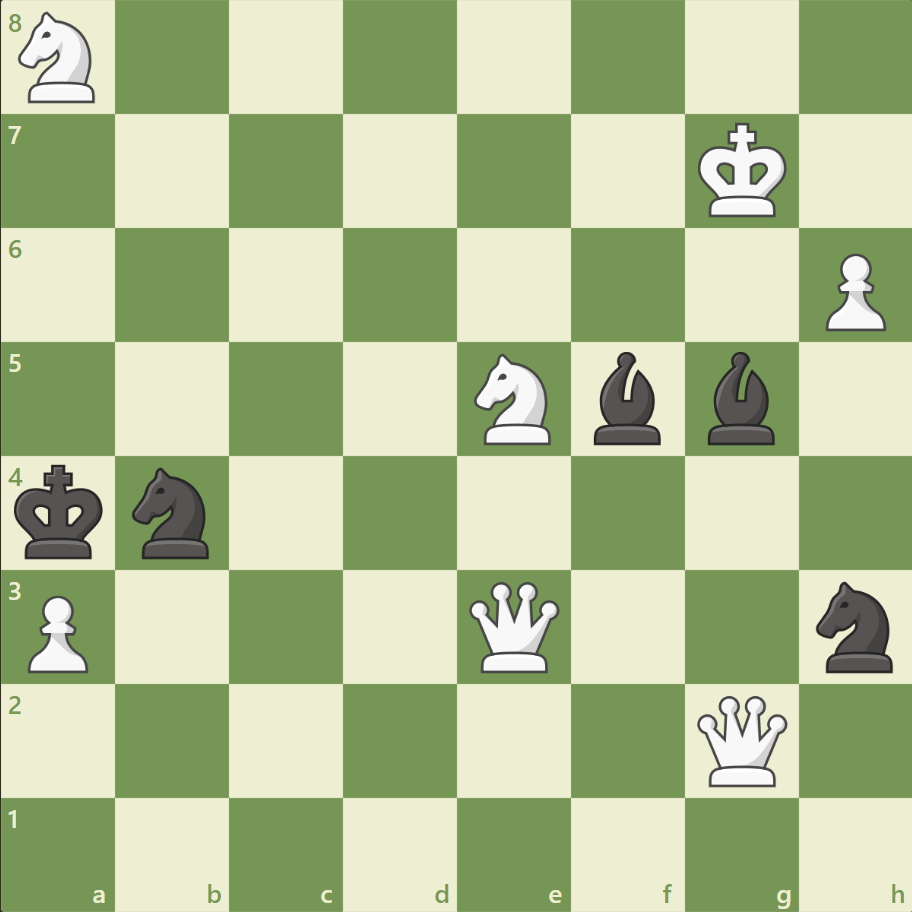K: (692, 117, 792, 225)
N: (11, 7, 108, 110), (465, 348, 562, 450)
P: (20, 586, 95, 677), (815, 246, 889, 337)
Q: (464, 576, 563, 676), (691, 690, 790, 789)
b: (585, 347, 669, 449), (698, 347, 782, 449)
k: (11, 458, 111, 566)
n: (124, 461, 222, 564), (806, 575, 903, 677)
